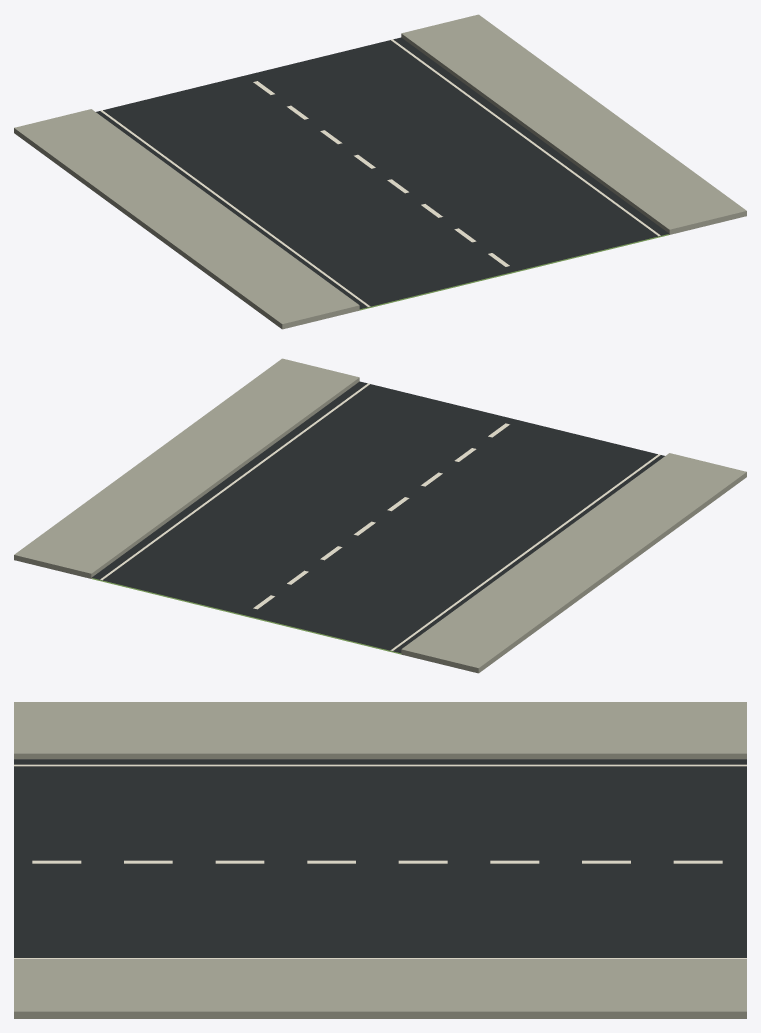
File: RoadStraight.obj
3 views of the same model, one above another, from view 1: azimuth 30°, elevation 25°; view 2: azimuth 150°, elevation 25°; view 3: azimuth 270°, elevation 25° (orthographic). The views are drawn at different scales.
Visible parts, largest first — view 1: RoadStraight; view 2: RoadStraight; view 3: RoadStraight.
Boxes of the visible parts, left/top/right/bottom form: RoadStraight: left=14, top=14, right=746, bottom=329; RoadStraight: left=14, top=358, right=746, bottom=673; RoadStraight: left=14, top=702, right=746, bottom=1018.
Bounding box in the file's own units: 12 × 0.13 × 12.
